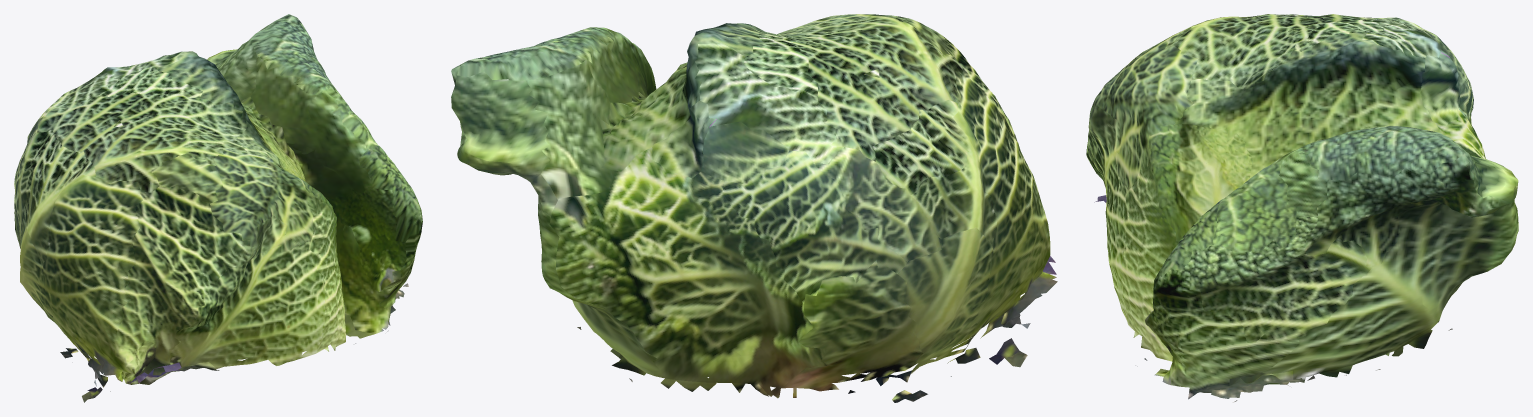
Rendered from vegetable.glb.
3 views of the same model, side by side, from view 1: azimuth 30°, elevation 25°; view 2: azimuth 150°, elevation 25°; view 3: azimuth 270°, elevation 25° (orthographic). The views are drawn at different scales.
Parts seen in each view (by area): view 1: Object_2; view 2: Object_2; view 3: Object_2.
Part boxes in pixels (left/top/right/bottom): Object_2: left=14, top=14, right=422, bottom=402; Object_2: left=451, top=14, right=1057, bottom=402; Object_2: left=1086, top=14, right=1518, bottom=402.
Bounding box in the file's own units: 0.2381 × 0.1681 × 0.2204.
1 material, 1 textured.
